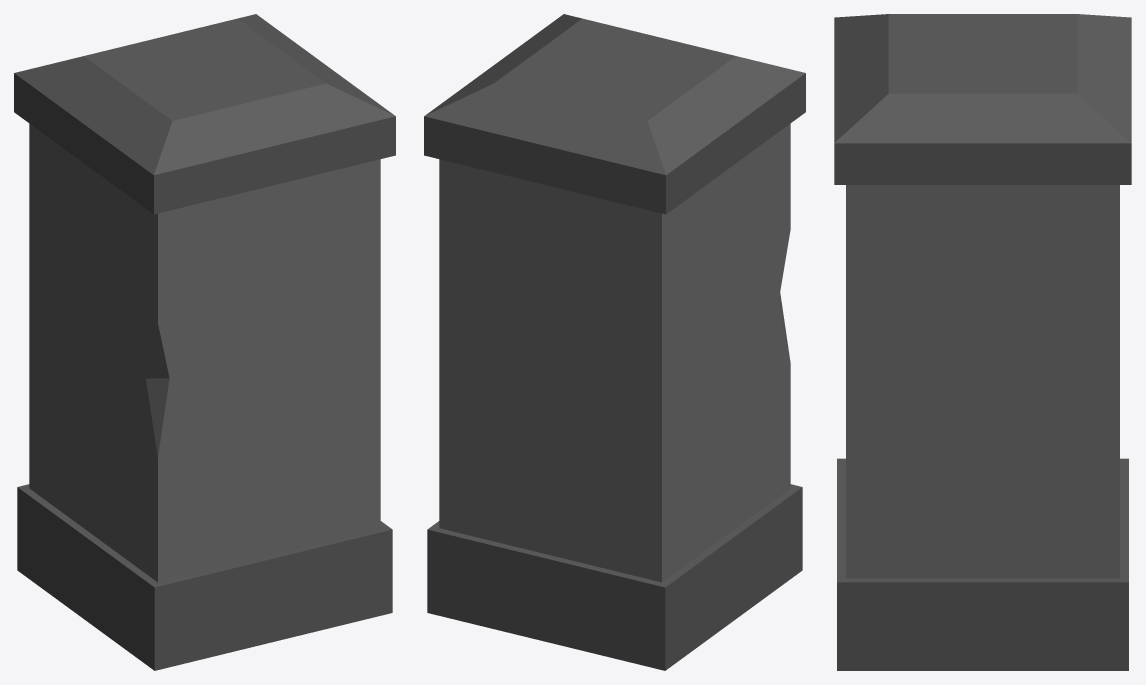
File: SM_FloorProps_Fence_03.fbx
The picture shows the model from 3 angles, left to right: view 1: azimuth 30°, elevation 25°; view 2: azimuth 150°, elevation 25°; view 3: azimuth 270°, elevation 25°; orthographic projection. The views are drawn at different scales.
Parts seen in each view (by area): view 1: SM_FloorProps_Fence_03; view 2: SM_FloorProps_Fence_03; view 3: SM_FloorProps_Fence_03.
Part boxes in pixels (x1,y1,x2,y2): SM_FloorProps_Fence_03: (14, 14, 395, 670); SM_FloorProps_Fence_03: (424, 14, 805, 670); SM_FloorProps_Fence_03: (834, 14, 1131, 670).
Bounding box in the file's own units: 0.4555 × 0.9385 × 0.4555.
